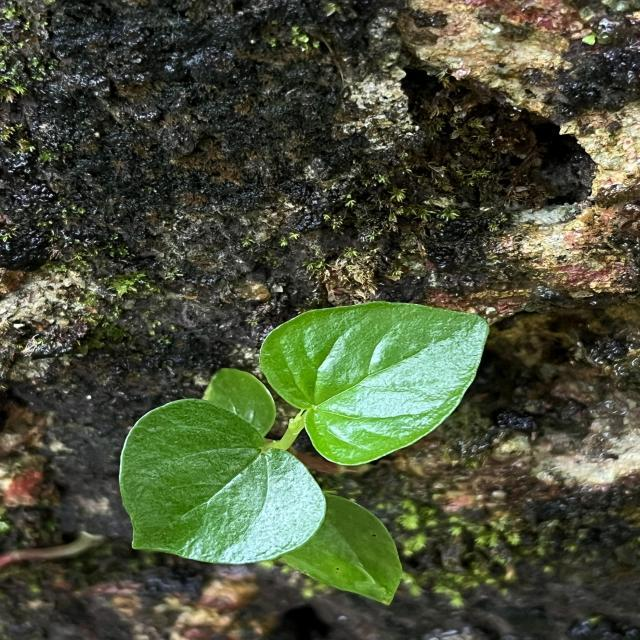Peperomia pellucida: (258, 299, 492, 466), (116, 396, 328, 566)
